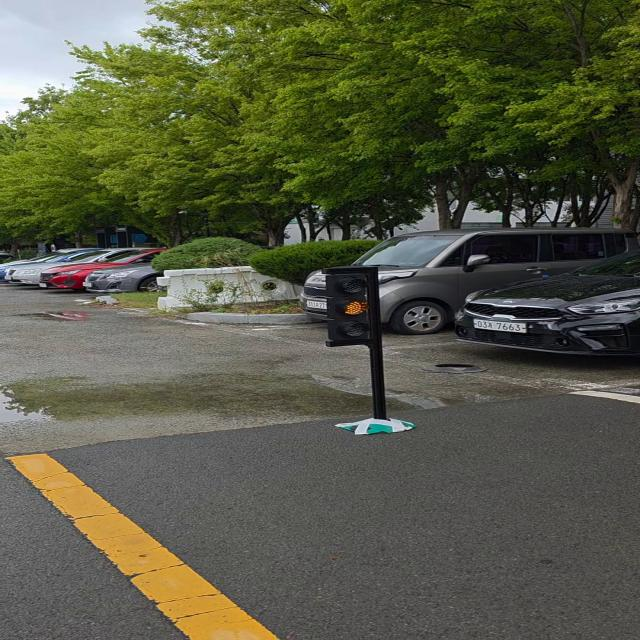yellow: (324, 268, 384, 348)
